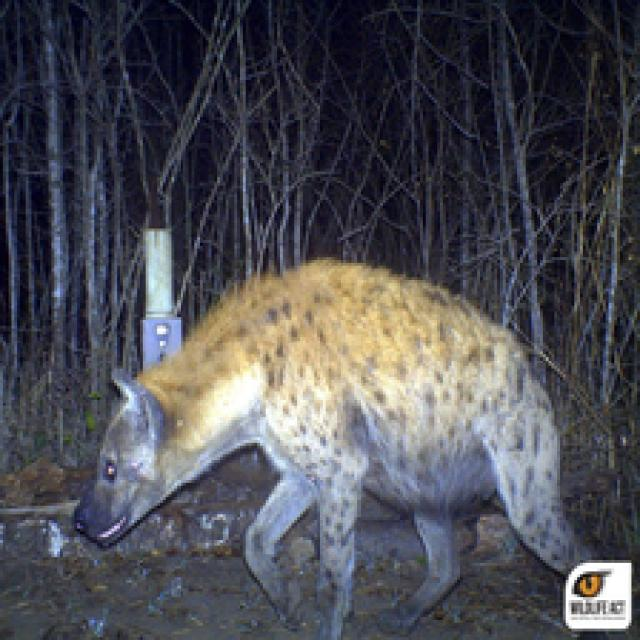hyena: (56, 219, 584, 582)
